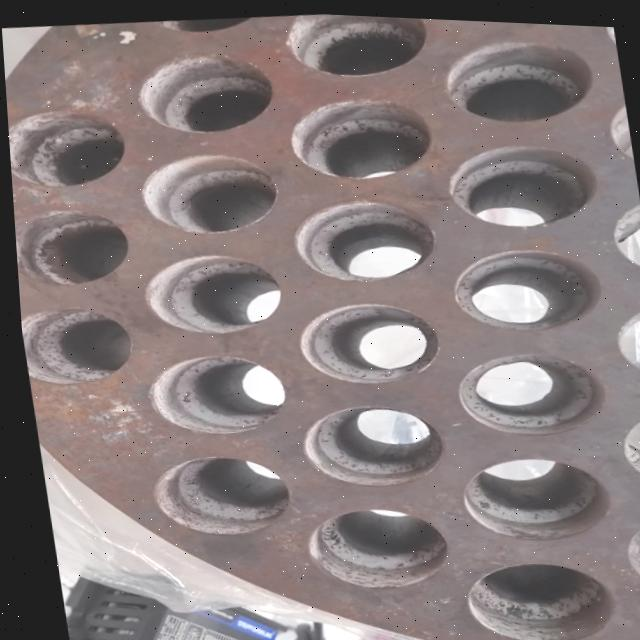Hole: (437, 24, 598, 125), (441, 130, 600, 230), (443, 235, 604, 333), (451, 443, 609, 542), (447, 339, 605, 437), (291, 392, 445, 490), (285, 187, 439, 284), (282, 85, 436, 182), (295, 495, 447, 593), (454, 548, 613, 640), (288, 291, 441, 386), (131, 143, 282, 238), (141, 445, 290, 541), (136, 345, 287, 439), (131, 43, 280, 138), (135, 244, 283, 339), (5, 102, 130, 192), (10, 200, 133, 290), (281, 10, 433, 80), (16, 299, 135, 387)
